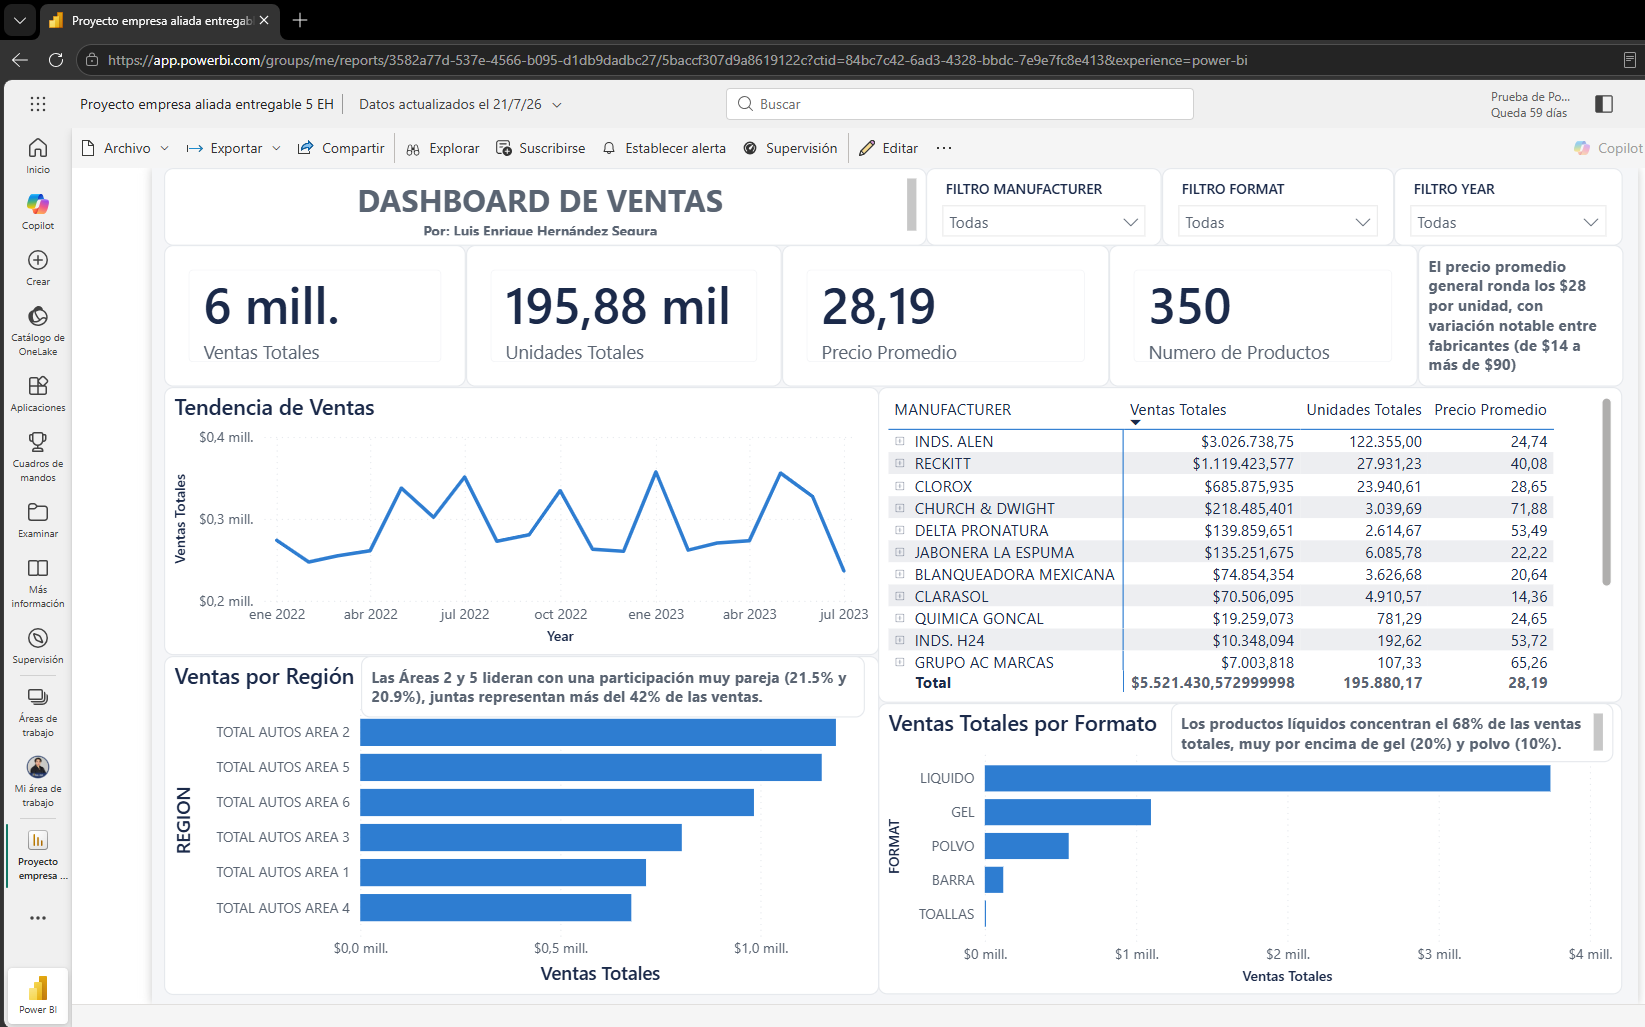

The page's visual inventory and layout, read from the dashboard file:
{"tool":"powerbi","page":{"name":"Page 1","canvas":[1280,720],"ordinal":0},"visuals":[{"type":"cardVisual","fields":{"Data":["FACT_SALES.Ventas Totales"]},"box":[10,66.7,260,122.2],"z":0},{"type":"cardVisual","fields":{"Data":["FACT_SALES.Unidades Totales"]},"box":[270,66.7,272.2,122.2],"z":1000},{"type":"cardVisual","fields":{"Data":["FACT_SALES.Precio Promedio"]},"box":[542.2,66.7,282.2,122.2],"z":2000},{"type":"cardVisual","fields":{"Data":["FACT_SALES.Numero de Productos"]},"box":[824.4,66.7,265.6,122.2],"z":3000},{"type":"barChart","title":"Ventas Totales por Formato","fields":{"Category":["DIM_PRODUCT.FORMAT"],"Y":["FACT_SALES.Ventas Totales"]},"box":[625.6,461.1,641.1,251.1],"z":4000},{"type":"lineChart","title":"Tendencia de Ventas","fields":{"Y":["FACT_SALES.Ventas Totales"],"Category":["DIM_CALENDAR.DATE.Variation.Date Hierarchy.Year","DIM_CALENDAR.DATE.Variation.Date Hierarchy.Quarter","DIM_CALENDAR.DATE.Variation.Date Hierarchy.Month","DIM_CALENDAR.DATE.Variation.Date Hierarchy.Day"]},"box":[10,188.9,615.6,231.1],"z":5000},{"type":"clusteredBarChart","title":"Ventas por Región","fields":{"Category":["FACT_SALES.REGION"],"Y":["FACT_SALES.Ventas Totales"]},"box":[10,420,615.6,292.2],"z":6000},{"type":"pivotTable","fields":{"Rows":["DIM_PRODUCT.MANUFACTURER","DIM_PRODUCT.BRAND"],"Values":["FACT_SALES.Ventas Totales","FACT_SALES.Unidades Totales","FACT_SALES.Precio Promedio"]},"box":[625.6,188.9,641.1,272.2],"z":7000},{"type":"slicer","fields":{"Values":["DIM_PRODUCT.FORMAT"]},"box":[870,0,200,66.7],"z":8000},{"type":"slicer","fields":{"Values":["DIM_CALENDAR.YEAR"]},"box":[1070,0,196.7,66.7],"z":9000},{"type":"slicer","fields":{"Values":["DIM_PRODUCT.MANUFACTURER"]},"box":[666.7,0,203.3,66.7],"z":10000},{"type":"textbox","box":[180,420,434.4,53.3],"z":10500},{"type":"textbox","box":[10,0,656.7,66.7],"z":11000},{"type":"textbox","box":[877.8,461.1,381.1,51.1],"z":12000},{"type":"textbox","box":[1090,66.7,176.7,122.2],"z":12001}]}

Visuals, with their boxes on the page's 1280x720 design canvas (x1, y1, x2, y2). These are canvas units, not pixel positions in the 1645x1027 screenshot, which may show the page scaled, cropped or inside an application window:
cardVisual - FACT_SALES.Ventas Totales: [left=10, top=67, right=270, bottom=189]
cardVisual - FACT_SALES.Unidades Totales: [left=270, top=67, right=542, bottom=189]
cardVisual - FACT_SALES.Precio Promedio: [left=542, top=67, right=824, bottom=189]
cardVisual - FACT_SALES.Numero de Productos: [left=824, top=67, right=1090, bottom=189]
"Ventas Totales por Formato" barChart: [left=626, top=461, right=1267, bottom=712]
"Tendencia de Ventas" lineChart: [left=10, top=189, right=626, bottom=420]
"Ventas por Región" clusteredBarChart: [left=10, top=420, right=626, bottom=712]
pivotTable - DIM_PRODUCT.MANUFACTURER x DIM_PRODUCT.BRAND: [left=626, top=189, right=1267, bottom=461]
slicer - DIM_PRODUCT.FORMAT: [left=870, top=0, right=1070, bottom=67]
slicer - DIM_CALENDAR.YEAR: [left=1070, top=0, right=1267, bottom=67]
slicer - DIM_PRODUCT.MANUFACTURER: [left=667, top=0, right=870, bottom=67]
textbox: [left=180, top=420, right=614, bottom=473]
textbox: [left=10, top=0, right=667, bottom=67]
textbox: [left=878, top=461, right=1259, bottom=512]
textbox: [left=1090, top=67, right=1267, bottom=189]
